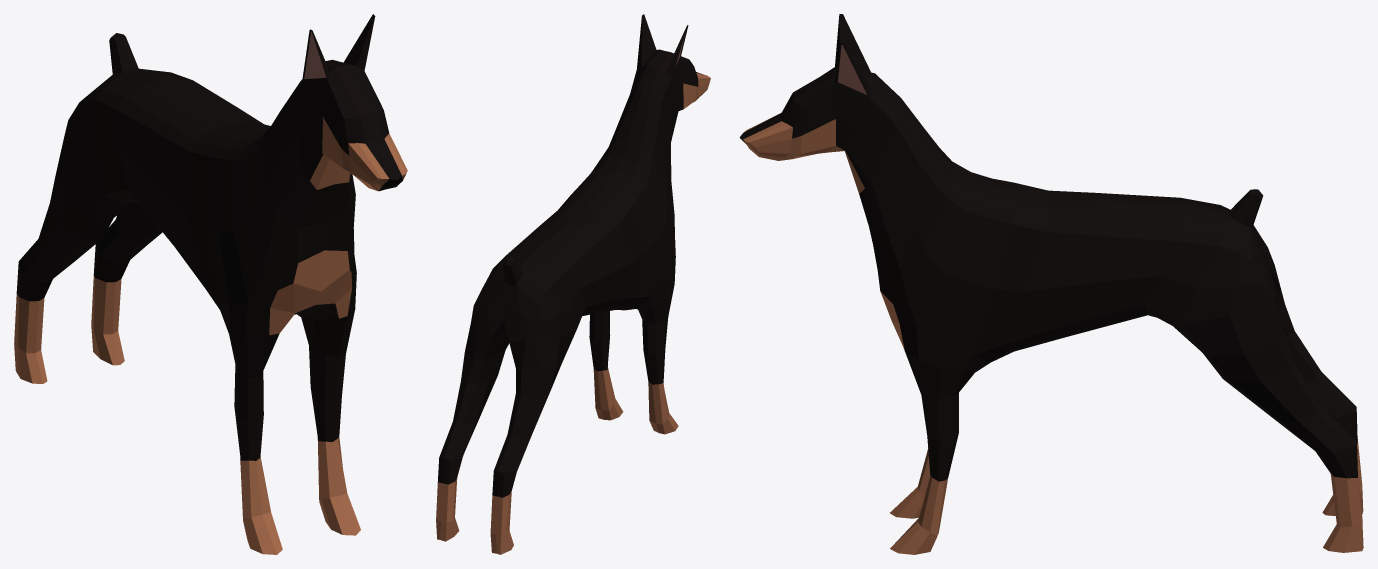
Rendered from 12dogFinal.fbx.
The picture shows the model from 3 angles, left to right: view 1: azimuth 30°, elevation 25°; view 2: azimuth 150°, elevation 25°; view 3: azimuth 270°, elevation 25°; orthographic projection. The views are drawn at different scales.
Visible parts, largest first — view 1: 12dogFinal; view 2: 12dogFinal; view 3: 12dogFinal.
Boxes of the visible parts, x1,y1,x2,y2 form: 12dogFinal: (14,14,407,554); 12dogFinal: (436,14,710,554); 12dogFinal: (739,14,1363,554).
Bounding box in the file's own units: 35.65 × 154 × 173.
